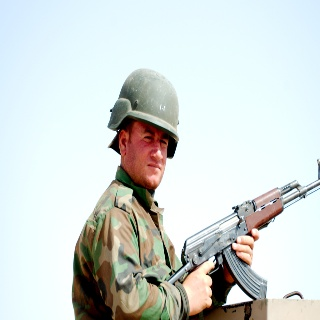rifle: (157, 158, 320, 302)
